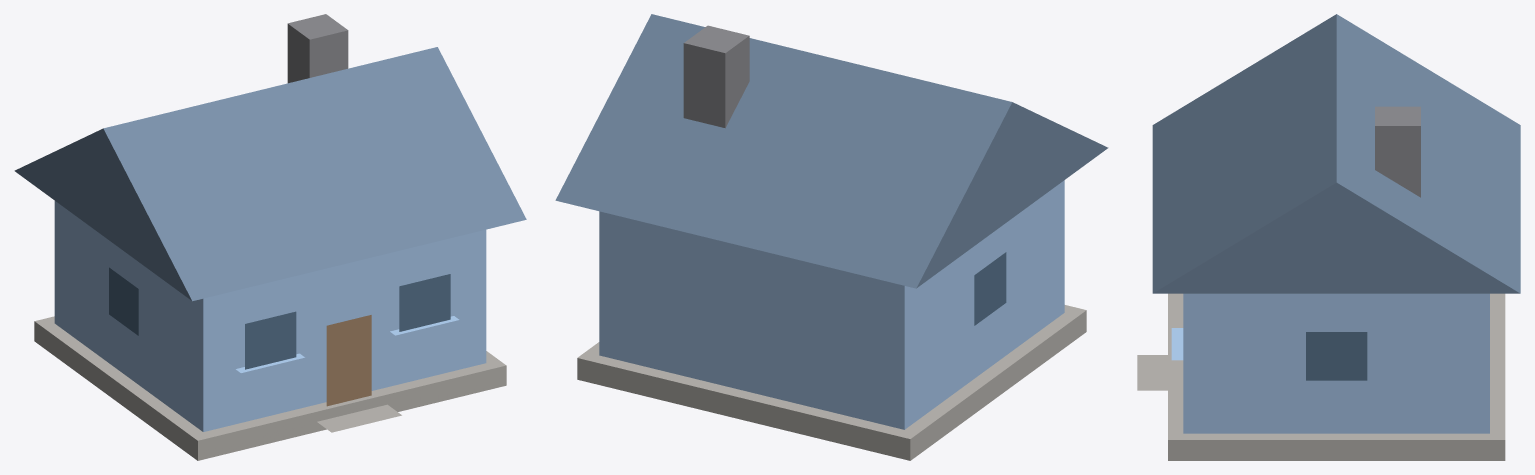
File: small_house.glb
3 renders of one model, left to right at view 1: azimuth 30°, elevation 25°; view 2: azimuth 150°, elevation 25°; view 3: azimuth 270°, elevation 25°, orthographic. The views are drawn at different scales.
Parts seen in each view (by area): view 1: small_house; view 2: small_house; view 3: small_house.
Part boxes in pixels (x1,y1,x2,y2): small_house: (14, 14, 526, 460); small_house: (555, 14, 1108, 460); small_house: (1137, 14, 1520, 460).
Bounding box in the file's own units: 0.52 × 0.44 × 0.5.
